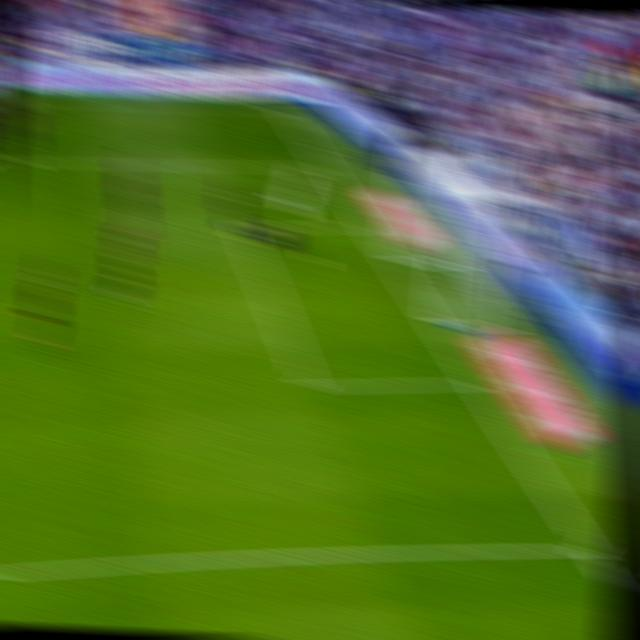bigarea_bottom_inner: (296, 369, 323, 401)
bottom_arc_area_intersection: (573, 530, 606, 567)
corner: (270, 102, 298, 118)
smallarea_top_outter: (311, 154, 336, 174)
